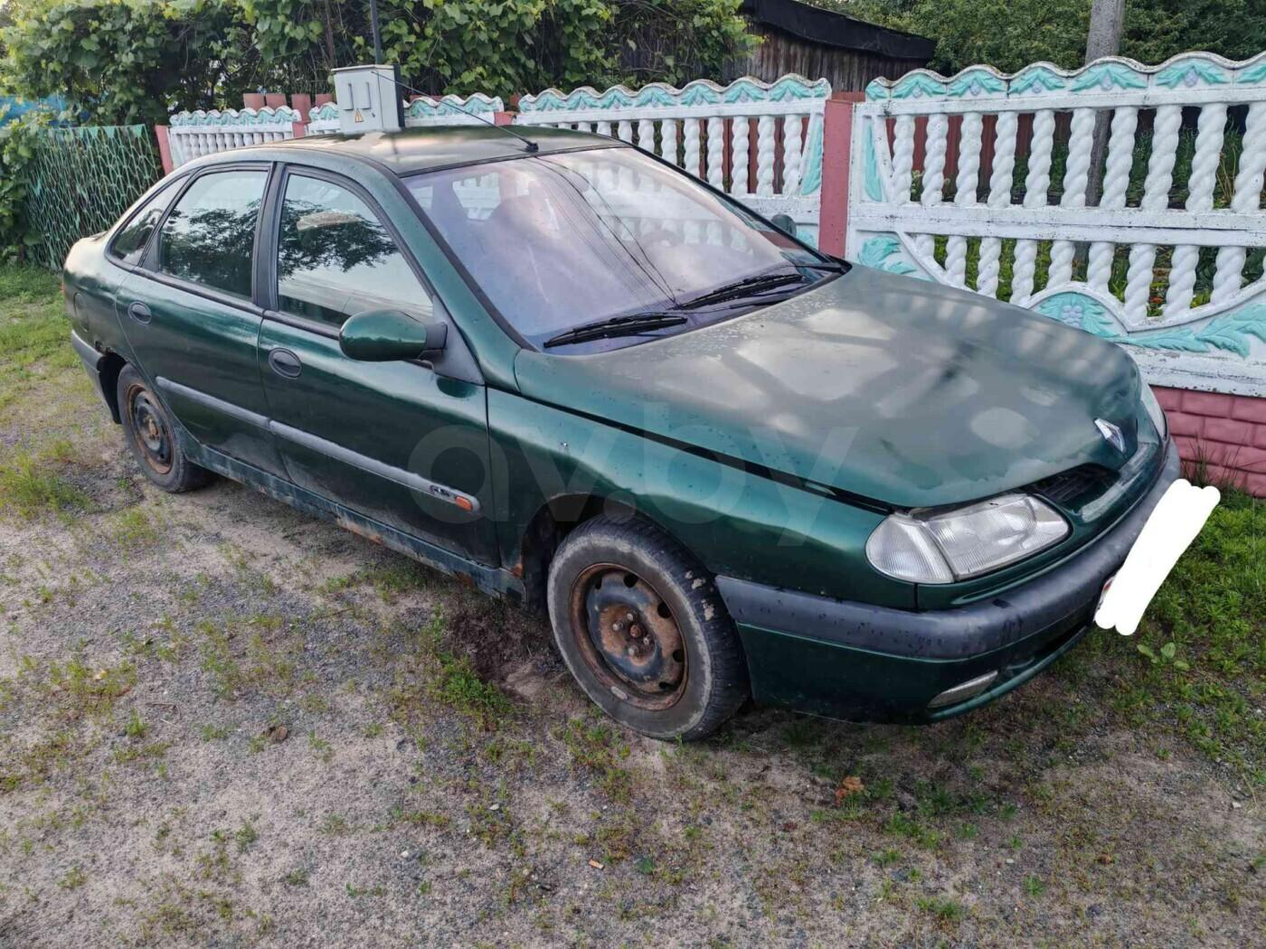Lahuna_1993-1999: (57, 120, 1191, 758)
